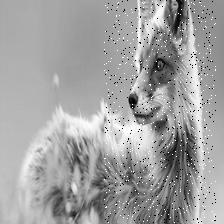fox: (105, 0, 216, 223)
